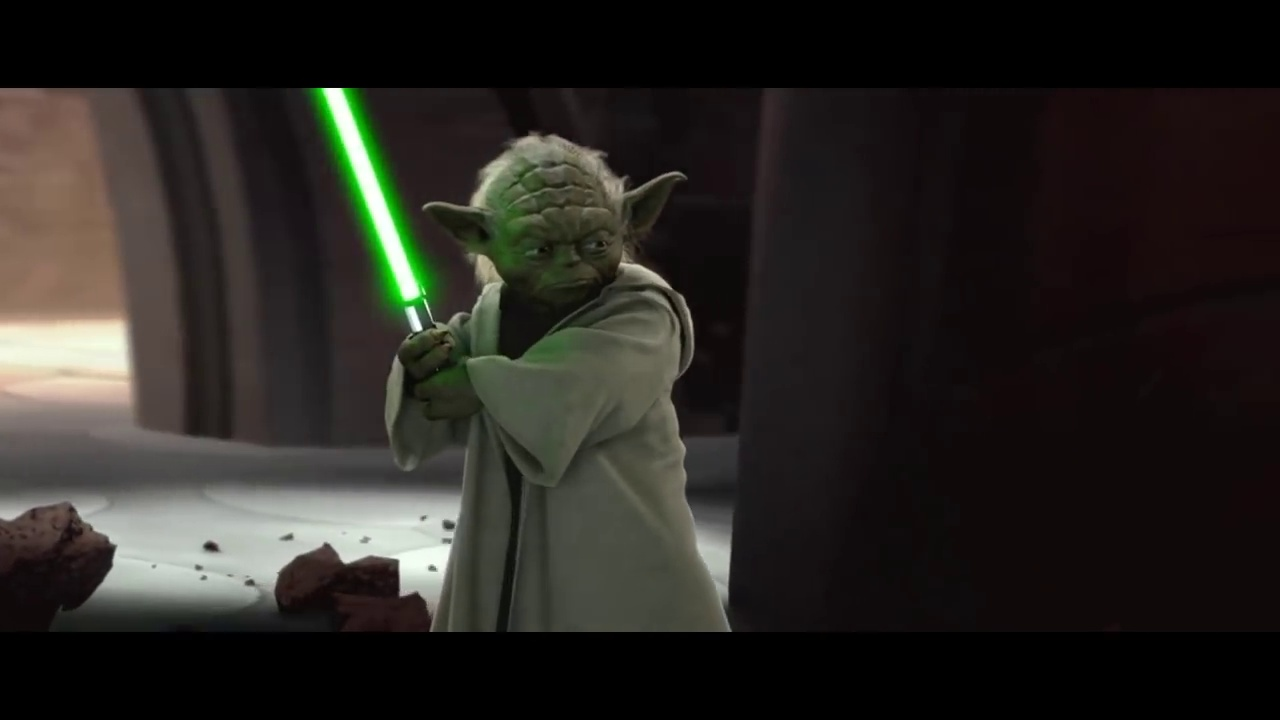lightsaber: (293, 85, 456, 362)
